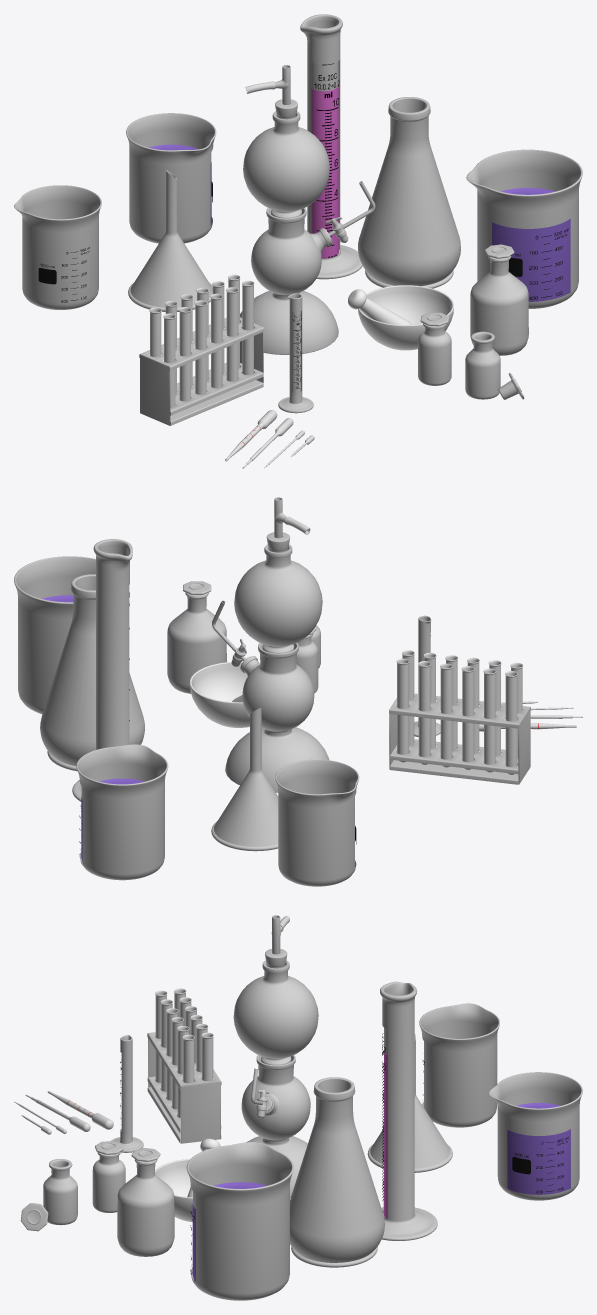
Rendered from 化学试剂实验场景.fbx.
3 views of the same model, one above another, from view 1: azimuth 30°, elevation 25°; view 2: azimuth 150°, elevation 25°; view 3: azimuth 270°, elevation 25° (orthographic). The views are drawn at different scales.
Parts seen in each view (by area): view 1: JJKJ1312, JJKJ1305, JJKJ1275, JJKJ1322, JJKJ1318, JJKJ1317, JJKJ1323, JJKJ1306, JJKJ1325, JJKJ1309, JJKJ1262, JJKJ1268 (+15 smaller); view 2: JJKJ1275, JJKJ1322, JJKJ1312, JJKJ1318, JJKJ1323, JJKJ1305, JJKJ1317, JJKJ1325, JJKJ1309, JJKJ1262, JJKJ1303, JJKJ1301 (+15 smaller); view 3: JJKJ1305, JJKJ1312, JJKJ1322, JJKJ1323, JJKJ1275, JJKJ1317, JJKJ1318, JJKJ1309, JJKJ1274, JJKJ1325, JJKJ1299, JJKJ1261 (+15 smaller).
Part boxes in pixels (x1,y1,x2,y2): JJKJ1312: (358,97,460,288); JJKJ1305: (466,149,582,308); JJKJ1275: (126,113,216,243); JJKJ1322: (14,185,101,309); JJKJ1318: (240,208,338,354); JJKJ1317: (243,111,329,218); JJKJ1323: (300,14,362,279); JJKJ1306: (492,188,570,301); JJKJ1325: (128,170,212,311); JJKJ1309: (470,256,528,355); JJKJ1262: (358,285,453,350); JJKJ1268: (311,86,338,258); JJKJ1275: (76,744,168,880); JJKJ1322: (275,759,359,886); JJKJ1312: (40,574,144,771); JJKJ1318: (225,642,329,792); JJKJ1323: (72,539,132,801); JJKJ1305: (14,556,95,714); JJKJ1317: (234,544,322,653); JJKJ1325: (211,708,278,851); JJKJ1309: (167,592,226,693); JJKJ1262: (189,661,249,727); JJKJ1303: (389,693,530,728); JJKJ1301: (390,739,518,774); JJKJ1305: (186,1142,293,1300); JJKJ1312: (290,1077,384,1267); JJKJ1322: (419,1003,499,1127); JJKJ1323: (380,981,437,1240); JJKJ1275: (488,1072,582,1200); JJKJ1317: (233,960,318,1065); JJKJ1318: (241,1055,310,1197); JJKJ1309: (117,1159,174,1256); JJKJ1274: (507,1103,570,1194); JJKJ1325: (367,1034,452,1172); JJKJ1299: (180,1082,220,1143); JJKJ1261: (43,1159,77,1225).
Bounding box in the file's own units: 733 × 404 × 799.
